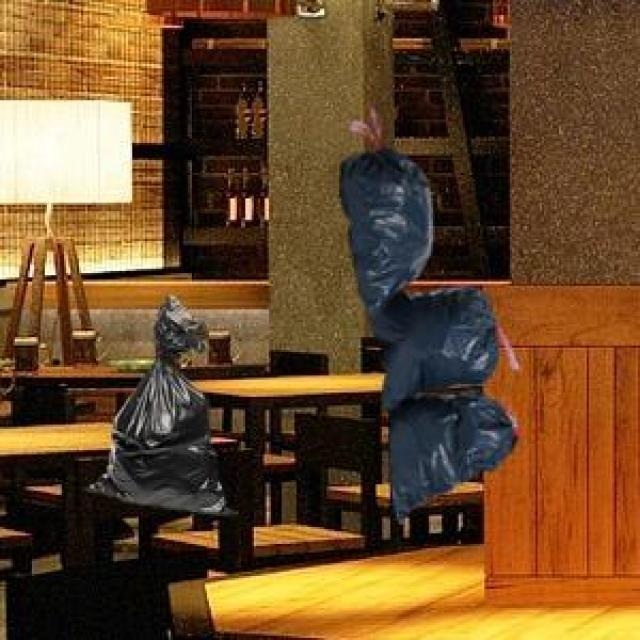waste: (341, 106, 516, 517), (92, 298, 226, 513)
